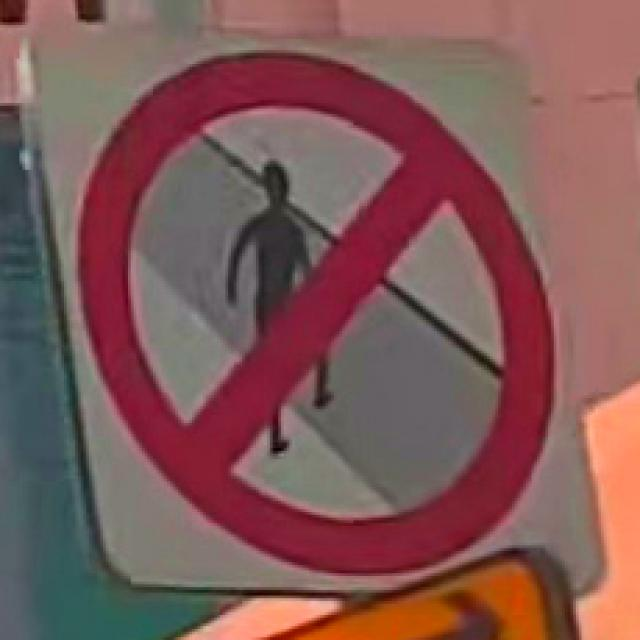nojaywalking_sign: (71, 70, 562, 612)
